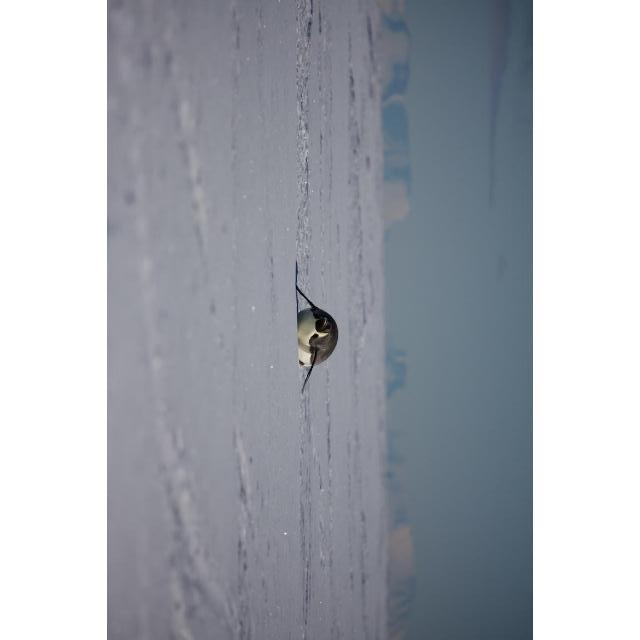penguin: (296, 285, 338, 394)
